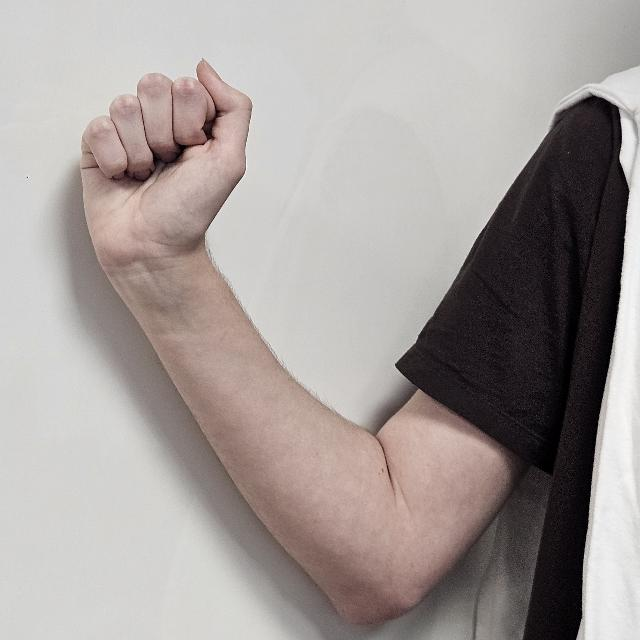Quadro: (65, 59, 261, 278)
